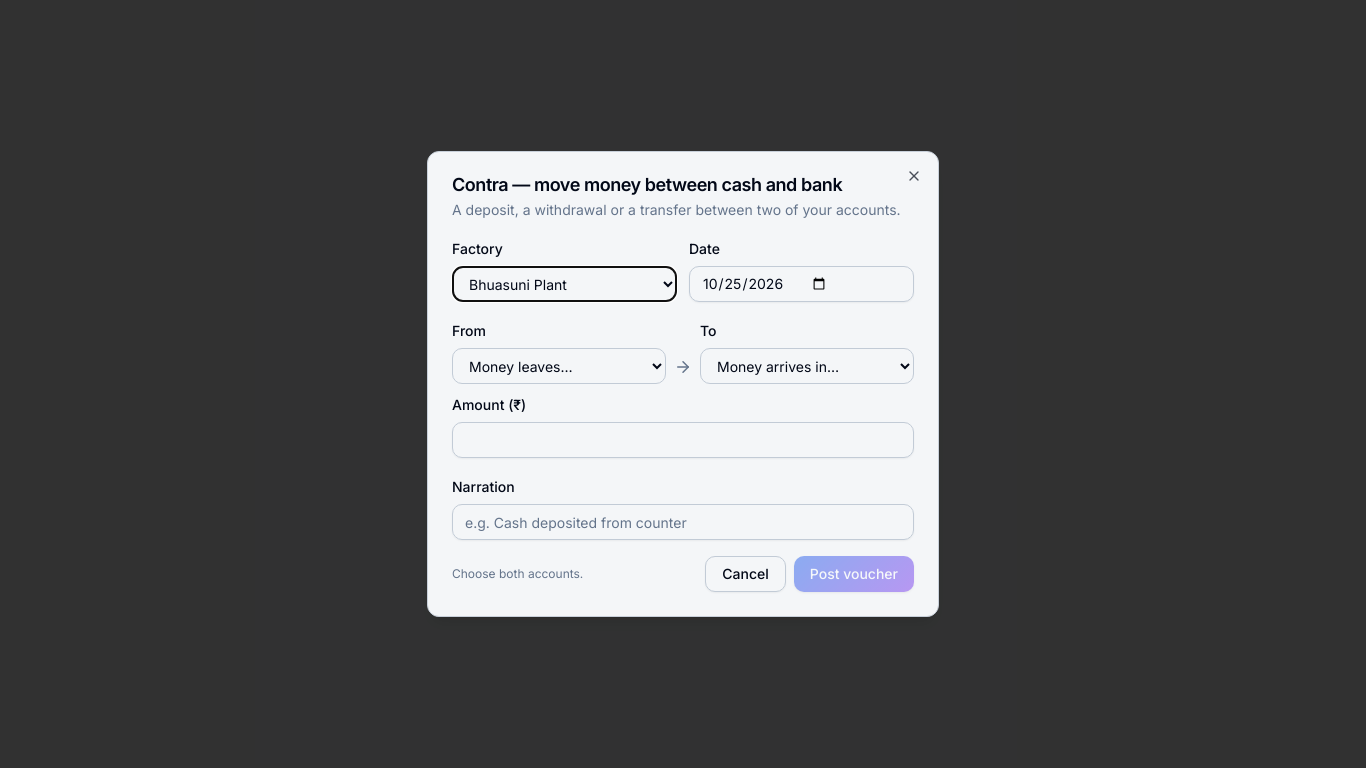
Scenario: Contra voucher › will not move money from an account into itself
The width and height of the screenshot is (1366, 768).
Step 1. Select "HDFC Current A/c" in the dropdown labelled "From" → (559, 366), box [452,348,666,384]
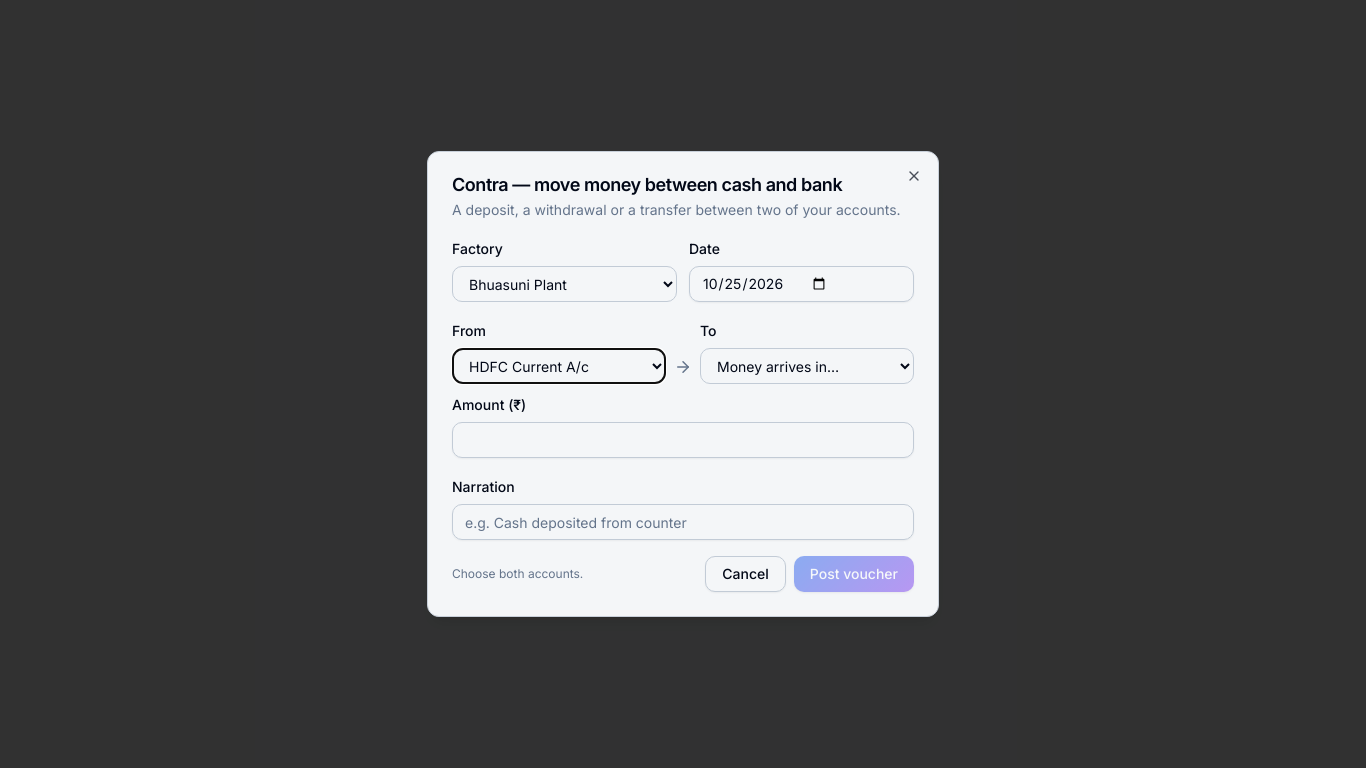
Step 2. Select "HDFC Current A/c" in the dropdown labelled "To" → (807, 366), box [700,348,914,384]
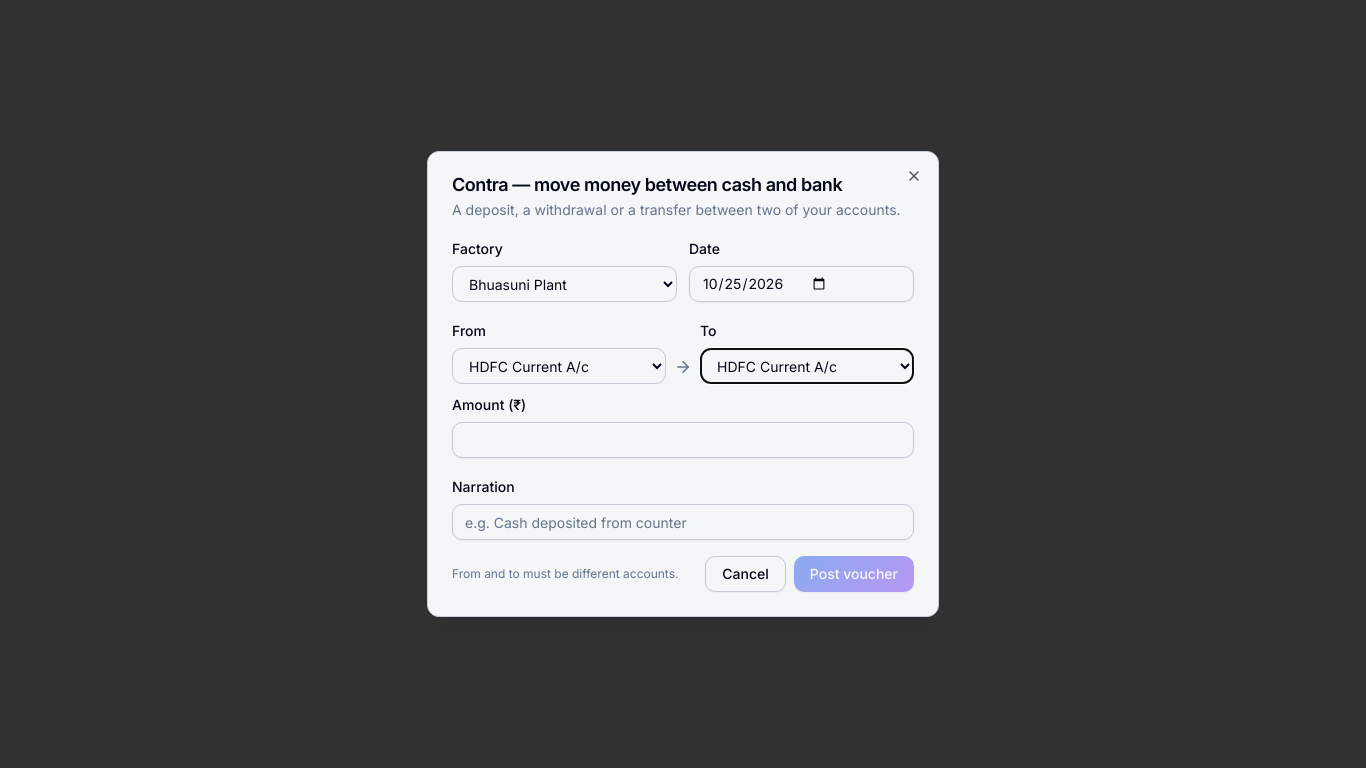
Expected: the button "Post voucher" is disabled, [794,556,914,592]
Expected: the text "From and to must be different accounts." is shown, [452,566,678,582]
